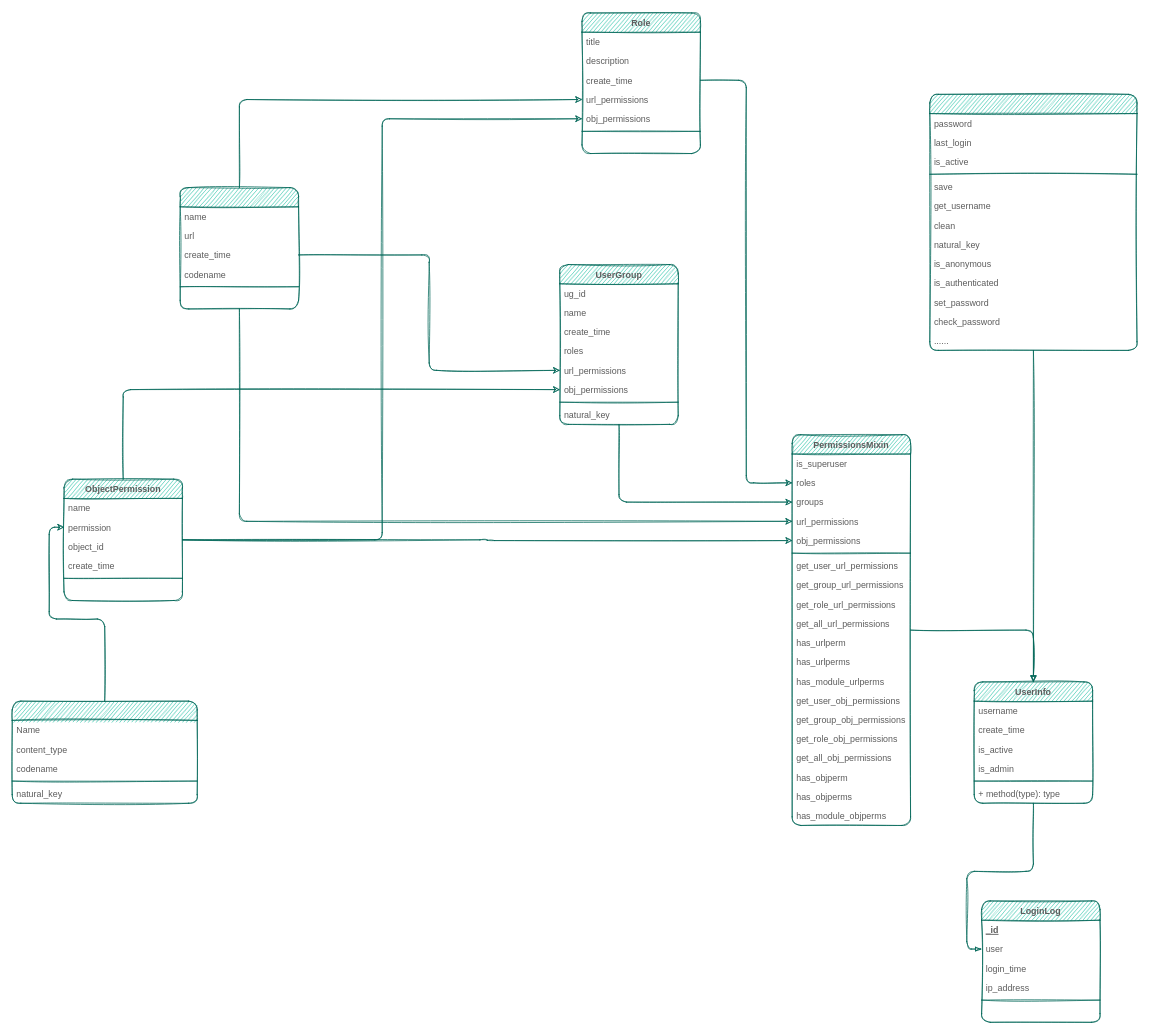
This 1149x1035 diagram has some shape labels left out. The box of each missing label's shape, as (x1, y1, x2, y2) in pixels:
django.contrib.auth.models.AbstractBaseUser: (929, 94, 1137, 350)
django.contrib.auth.models.Permission: (11, 700, 197, 803)
URLPermission: (179, 187, 299, 309)
